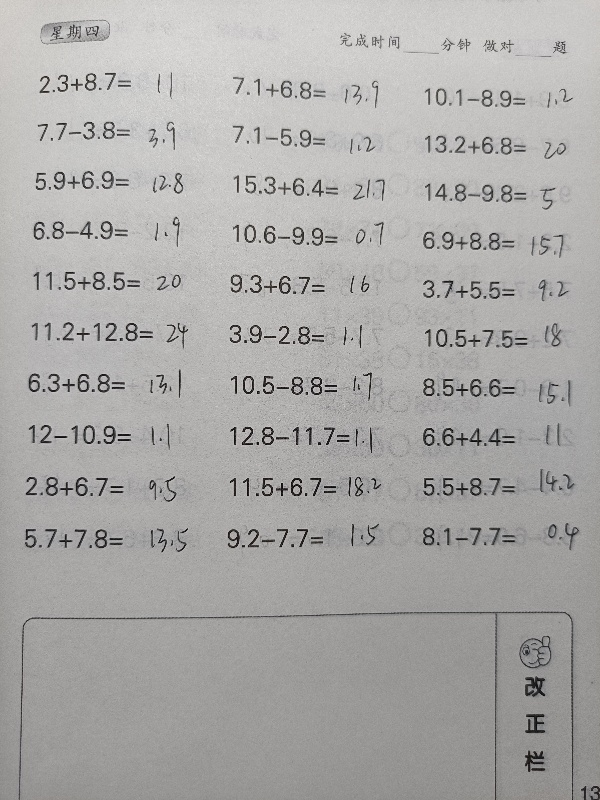equation: (221, 419, 401, 461), (221, 469, 401, 505), (219, 521, 399, 556), (16, 521, 196, 556), (413, 519, 593, 554), (17, 469, 197, 504), (21, 417, 201, 452), (20, 366, 200, 401), (24, 314, 204, 349), (25, 213, 205, 248), (415, 470, 595, 504), (414, 420, 594, 454), (414, 371, 594, 405), (221, 368, 401, 402), (415, 321, 595, 355), (220, 317, 400, 351), (414, 272, 594, 306), (221, 267, 401, 301), (25, 264, 205, 298), (413, 224, 593, 258), (223, 218, 403, 252), (416, 176, 596, 210), (225, 169, 405, 203), (26, 163, 206, 197), (223, 120, 403, 154), (29, 113, 209, 147), (224, 71, 404, 105), (31, 65, 211, 99), (416, 128, 596, 161), (416, 81, 596, 114)
